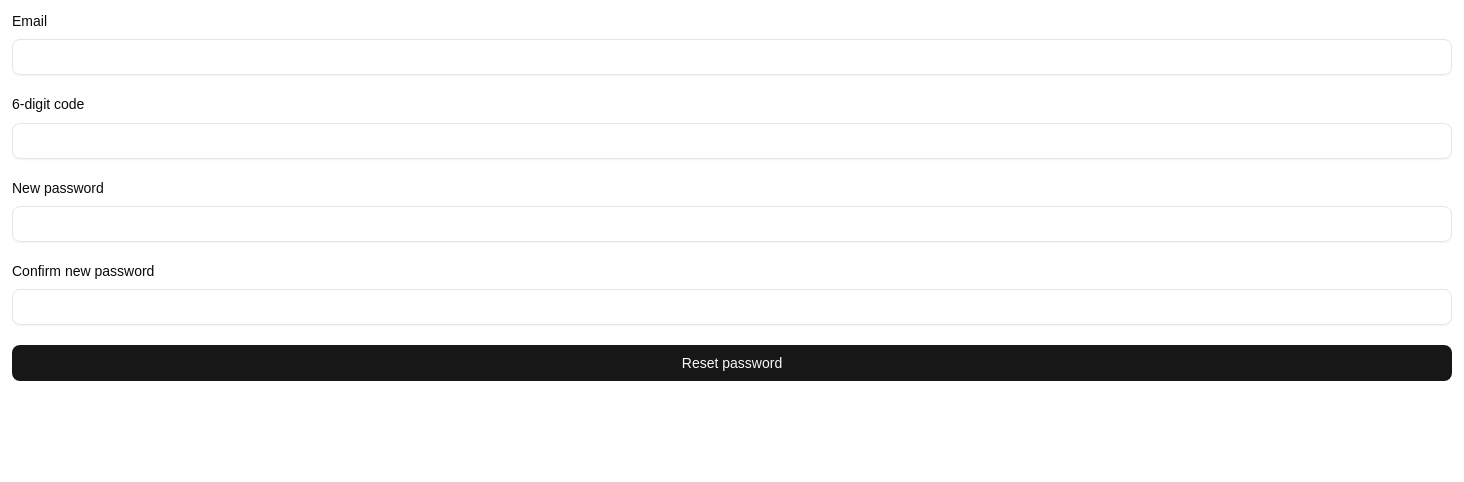
ResetPasswordForm › shows an expiry message with a link back to forgot-password on a 410 response
The width and height of the screenshot is (1464, 482).
Type "a@b.com" into the field labelled "Email" at x=732, y=57, box [12,39,1452,75]
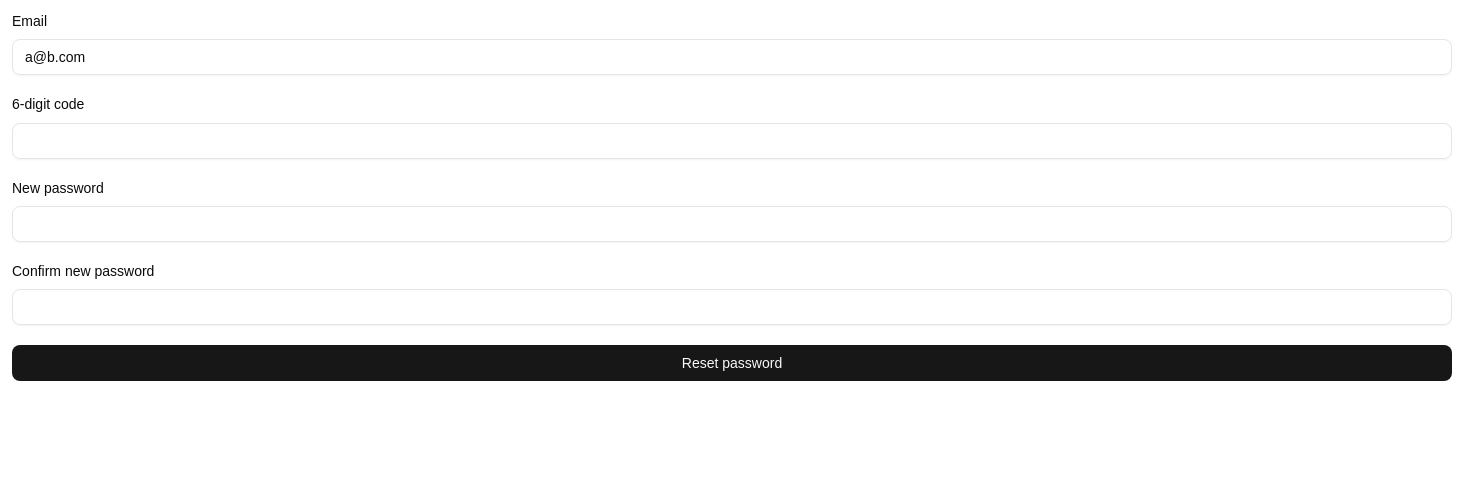
Type "123456" into the field labelled "6-digit code" at x=732, y=140, box [12,122,1452,158]
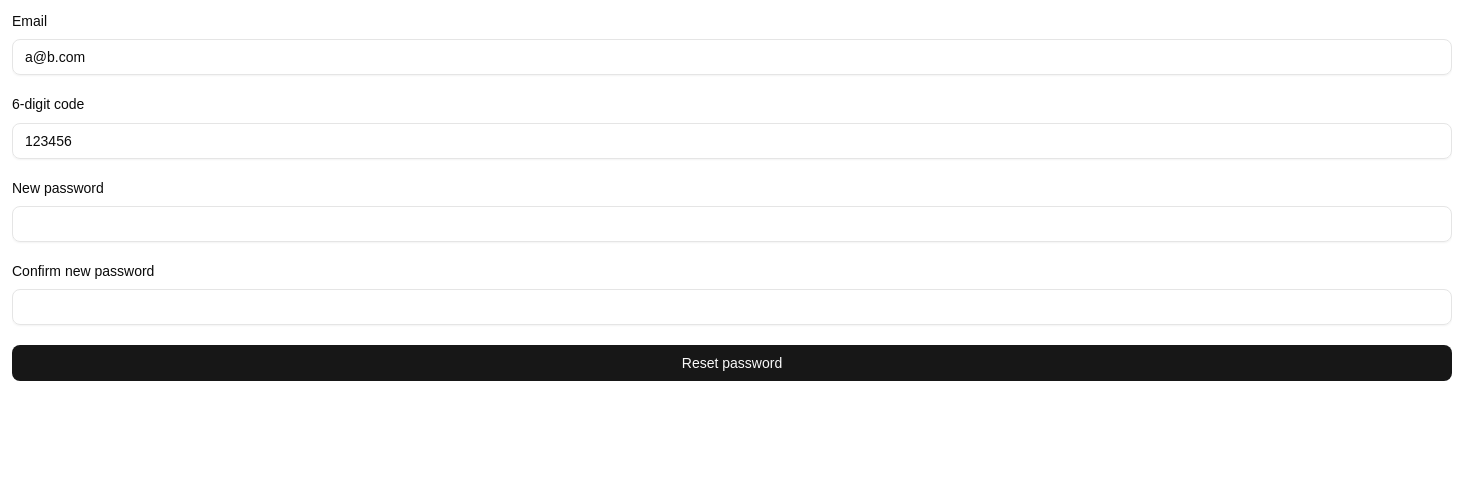
Type "newpass1" into the password field labelled "New password" at x=732, y=224, box [12,206,1452,242]
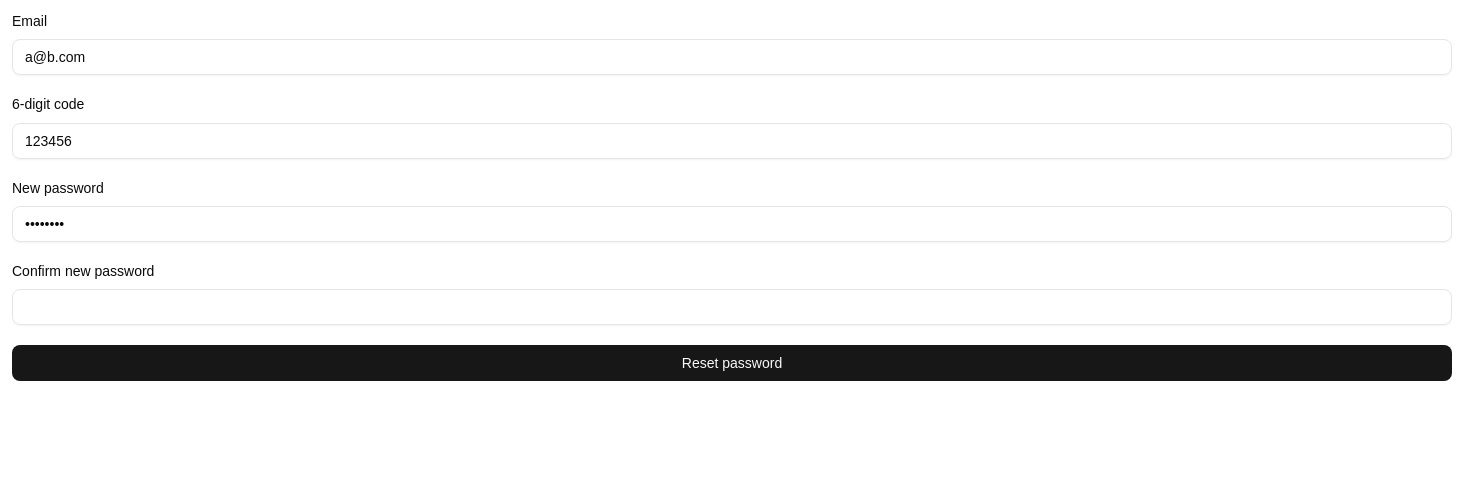
Type "newpass1" into the password field labelled "Confirm new password" at x=732, y=307, box [12,289,1452,325]
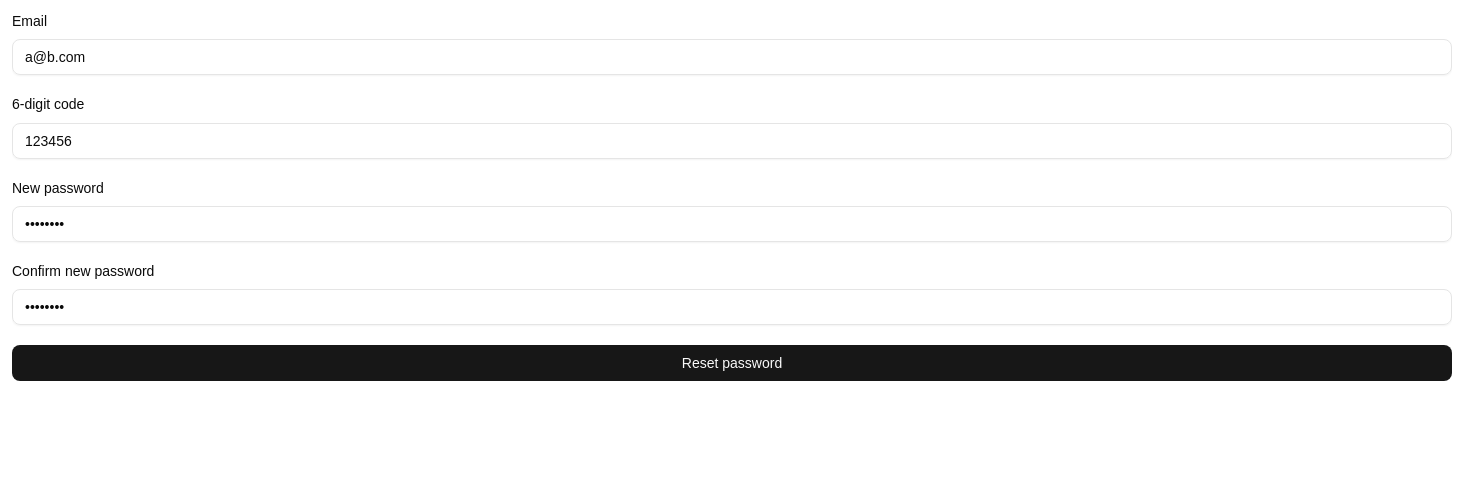
Click the button "Reset password" at x=732, y=363, box [12,345,1452,381]
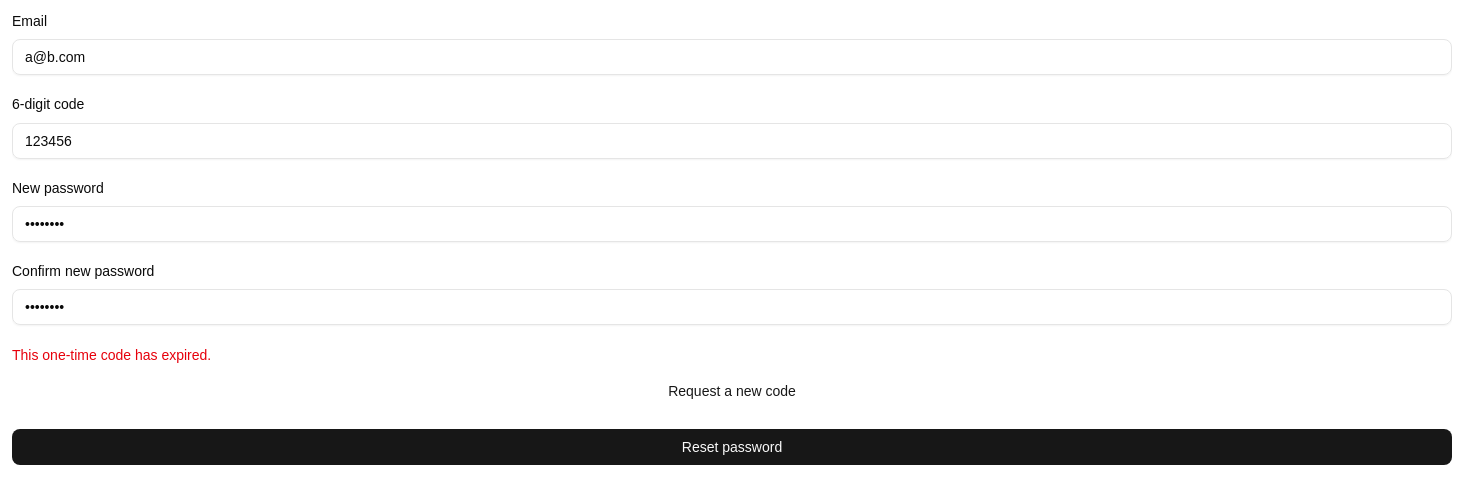
Expected: the text "This one-time code has expired." is shown, [12,347,211,363]
